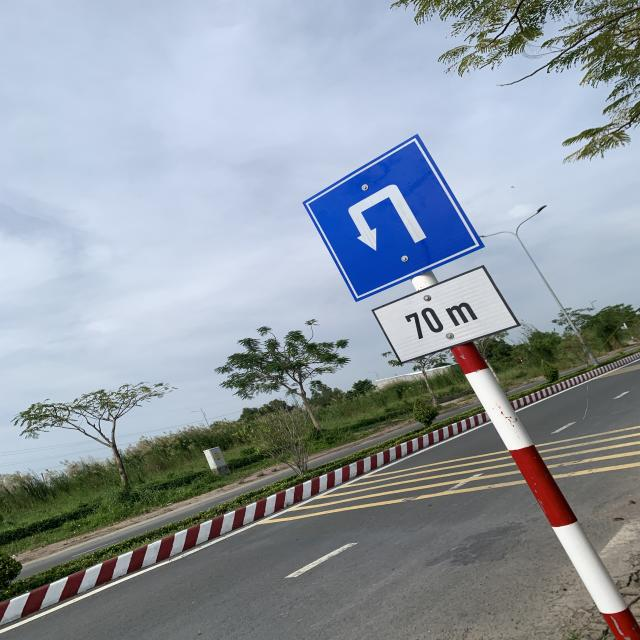Den_Giao_Thong: (303, 134, 492, 302)
